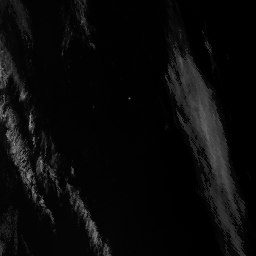Target: (126, 96, 132, 100)
